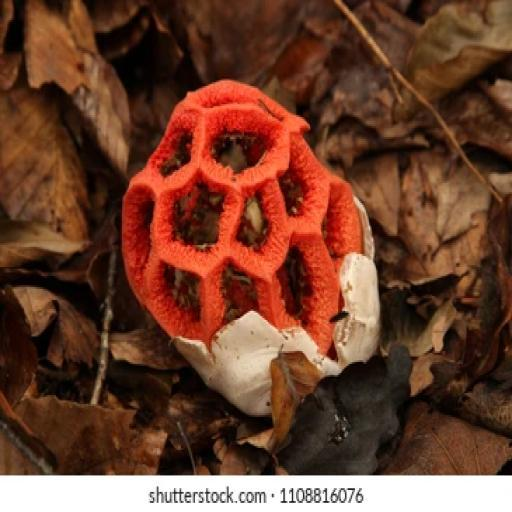mushroom: (85, 58, 406, 389)
